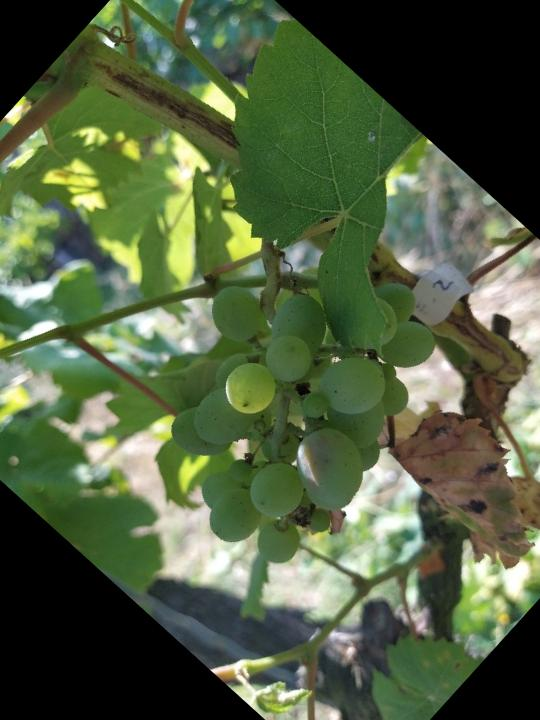grape: (91, 190, 488, 594)
